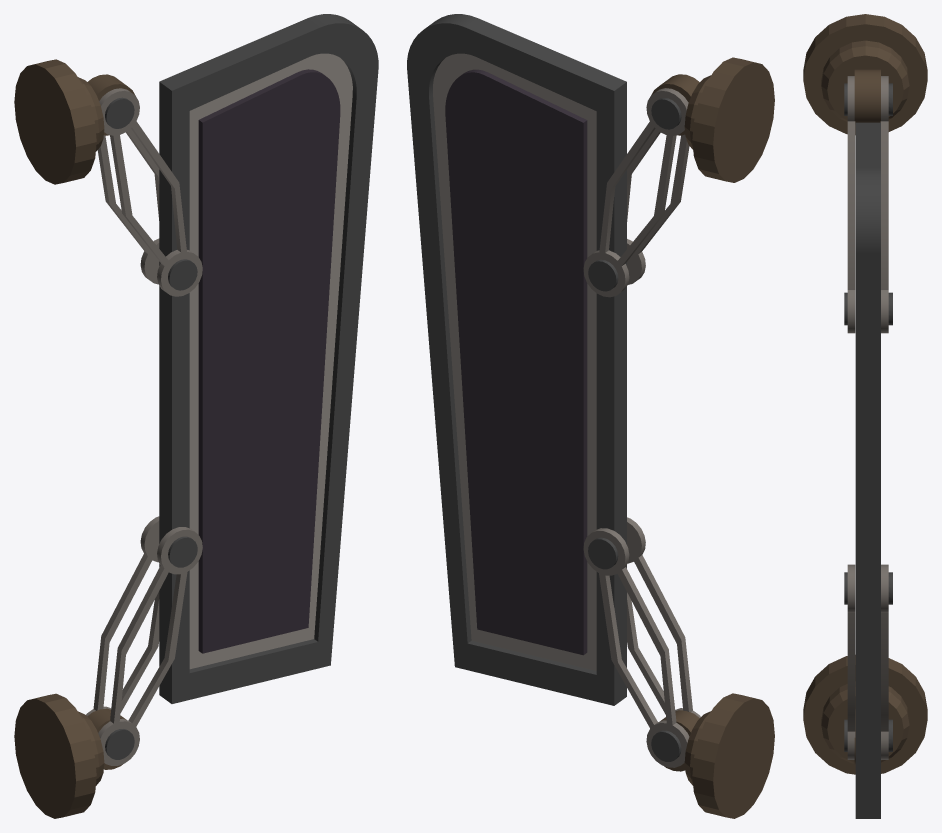
The model's file is 48_sign1.fbx.
The picture shows the model from 3 angles, left to right: view 1: azimuth 30°, elevation 25°; view 2: azimuth 150°, elevation 25°; view 3: azimuth 270°, elevation 25°; orthographic projection.
Visible parts, largest first — view 1: pCube88, pCylinder273, pCylinder270, pCylinder276, pCylinder275, pCylinder277, pCylinder272; view 2: pCube88, pCylinder270, pCylinder273, pCylinder277, pCylinder272, pCylinder276, pCylinder275; view 3: pCube88, pCylinder273, pCylinder270, pCylinder275, pCylinder272, pCylinder276, pCylinder277, pCylinder274.
Part boxes in pixels (left/top/right/bottom): pCube88: left=159, top=14, right=378, bottom=703; pCylinder273: left=14, top=59, right=104, bottom=184; pCylinder270: left=14, top=693, right=104, bottom=818; pCylinder276: left=98, top=527, right=202, bottom=765; pCylinder275: left=99, top=88, right=202, bottom=296; pCylinder277: left=86, top=516, right=159, bottom=716; pCylinder272: left=97, top=128, right=159, bottom=284; pCube88: left=407, top=14, right=626, bottom=705; pCylinder270: left=684, top=693, right=774, bottom=818; pCylinder273: left=684, top=57, right=774, bottom=182; pCylinder277: left=583, top=528, right=689, bottom=767; pCylinder272: left=583, top=88, right=688, bottom=297; pCylinder276: left=627, top=517, right=700, bottom=717; pCylinder275: left=627, top=128, right=689, bottom=284; pCube88: left=855, top=122, right=880, bottom=818; pCylinder273: left=803, top=14, right=927, bottom=134; pCylinder270: left=803, top=655, right=927, bottom=774; pCylinder275: left=844, top=76, right=855, bottom=333; pCylinder272: left=880, top=76, right=892, bottom=333; pCylinder276: left=844, top=564, right=855, bottom=759; pCylinder277: left=881, top=564, right=892, bottom=759; pCylinder274: left=854, top=69, right=880, bottom=125.
Size of the model in its own units: 0.9226 by 2 by 0.3001.
